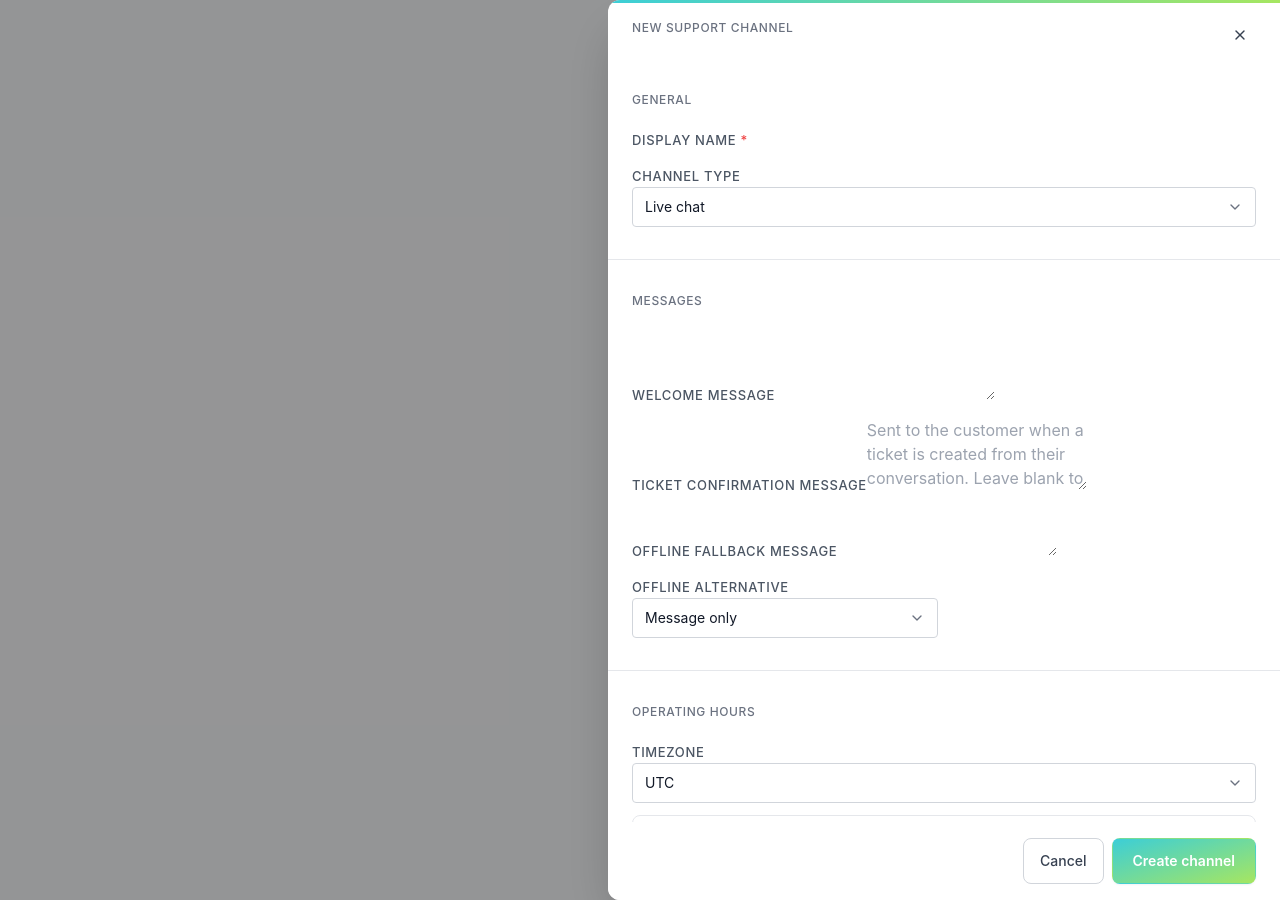
Scenario: SupportChannelFormDrawer › shows ticket form dropdown when type is contact_form
The width and height of the screenshot is (1280, 900).
Click the button named "channel type" at x=675, y=206, box [632,187,1256,227]
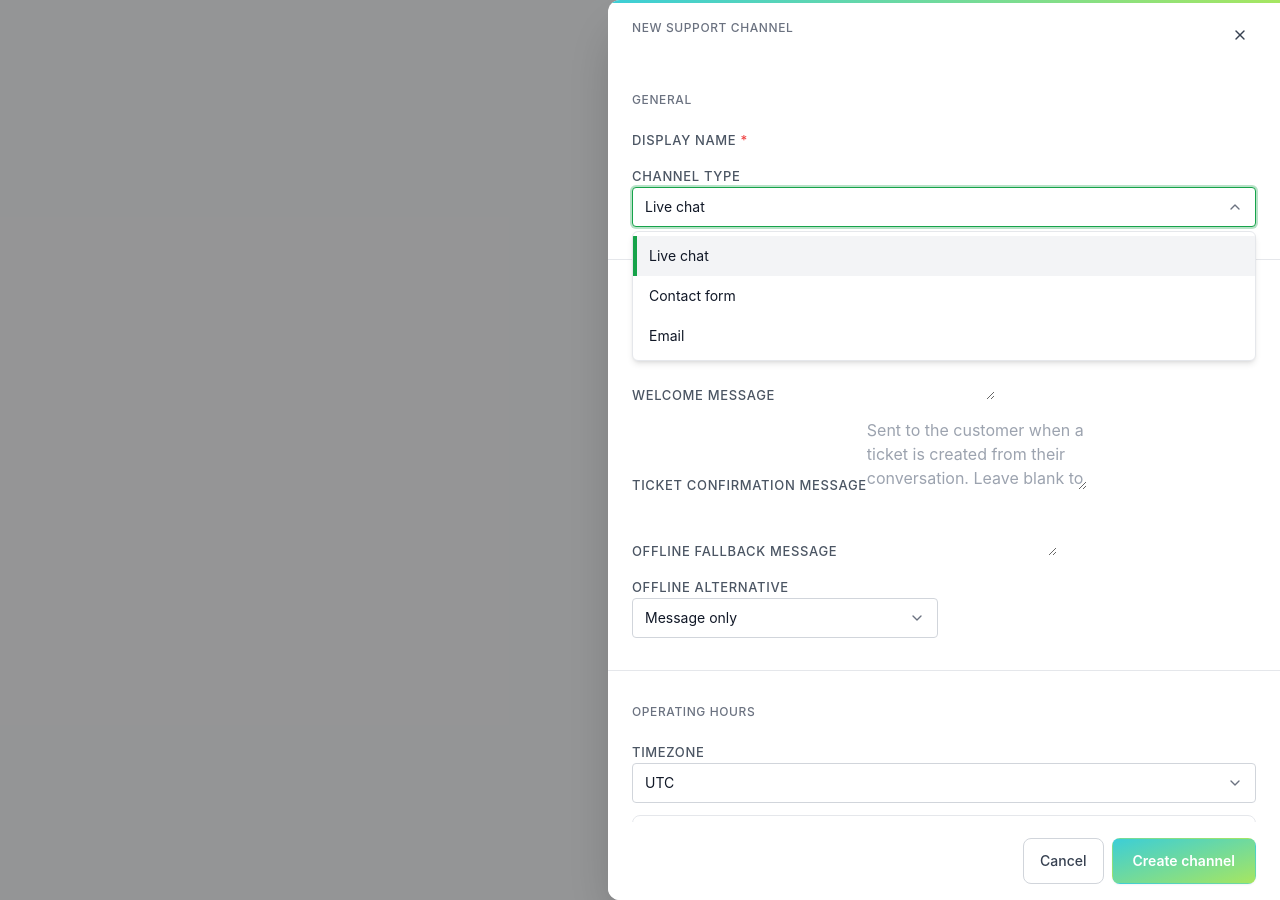
Expected: the option "Contact form" is shown
Click the option "Contact form" at x=692, y=296, box [633,276,1255,316]
(page scrolled)
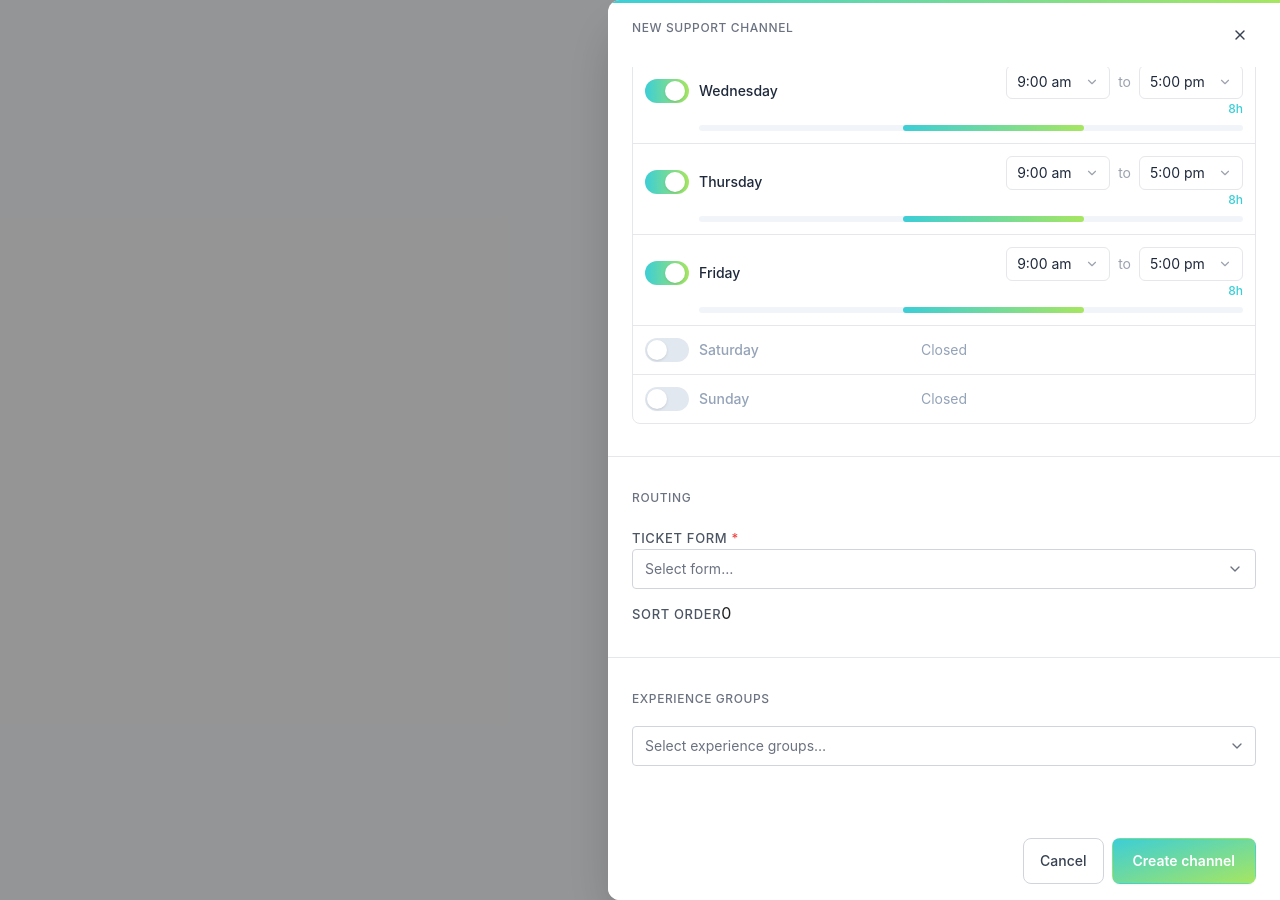
Expected: the button named "ticket form" is shown, [632,549,1256,589]
